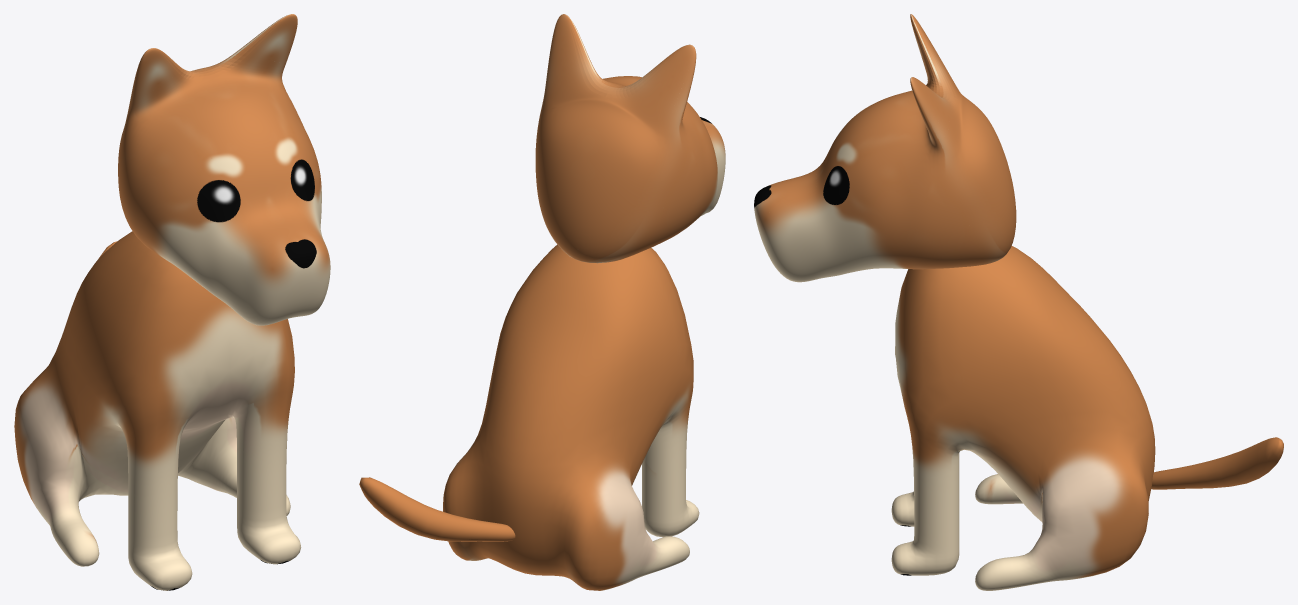
The model's file is dog.gltf.
3 renders of one model, left to right at view 1: azimuth 30°, elevation 25°; view 2: azimuth 150°, elevation 25°; view 3: azimuth 270°, elevation 25°, orthographic. The views are drawn at different scales.
Visible parts, largest first — view 1: body.002, face; view 2: body.002, face, tail; view 3: body.002, face, tail.
Part boxes in pixels (x1,y1,x2,y2): body.002: [14, 231, 301, 590]; face: [118, 14, 330, 325]; body.002: [443, 244, 699, 590]; face: [535, 14, 725, 263]; tail: [359, 477, 515, 541]; body.002: [891, 246, 1155, 590]; face: [754, 14, 1016, 282]; tail: [1151, 437, 1283, 489].
Bounding box in the file's own units: 0.2293 × 0.5423 × 0.5195.
Materials: 3 (3 with a texture image).
